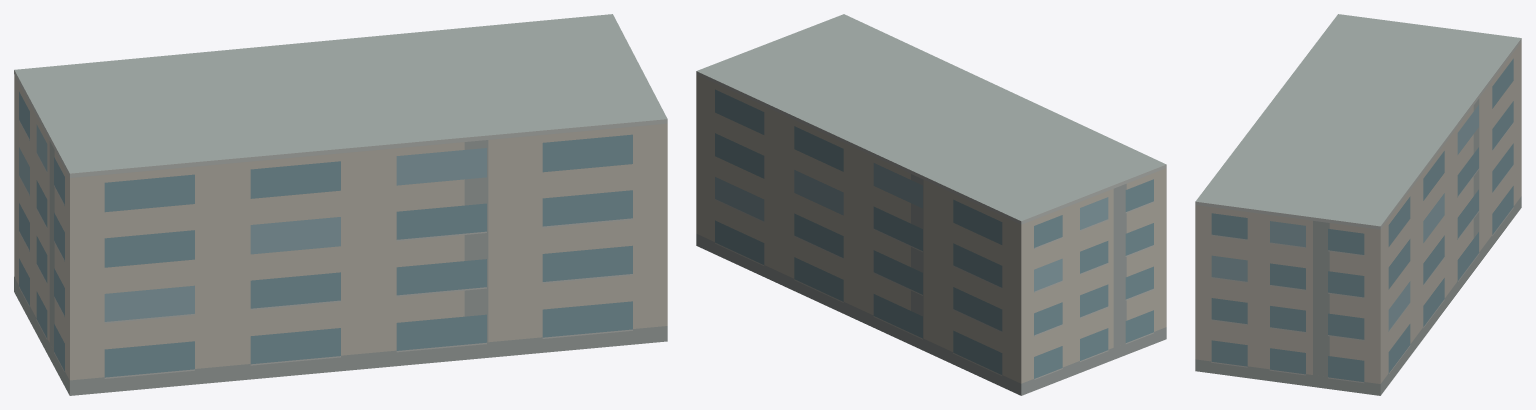
The model's file is survey-upis-32820826.glb.
3 renders of one model, left to right at view 1: azimuth 30°, elevation 25°; view 2: azimuth 150°, elevation 25°; view 3: azimuth 270°, elevation 25°, orthographic. The views are drawn at different scales.
Parts seen in each view (by area): view 1: survey-upis-32820826.tmp; view 2: survey-upis-32820826.tmp; view 3: survey-upis-32820826.tmp.
Part boxes in pixels (box(x1,y1,x2,y2)): survey-upis-32820826.tmp: box(14, 14, 667, 395); survey-upis-32820826.tmp: box(696, 14, 1166, 395); survey-upis-32820826.tmp: box(1195, 14, 1521, 395).
Bounding box in the file's own units: 32.8 × 12.2 × 21.29.
